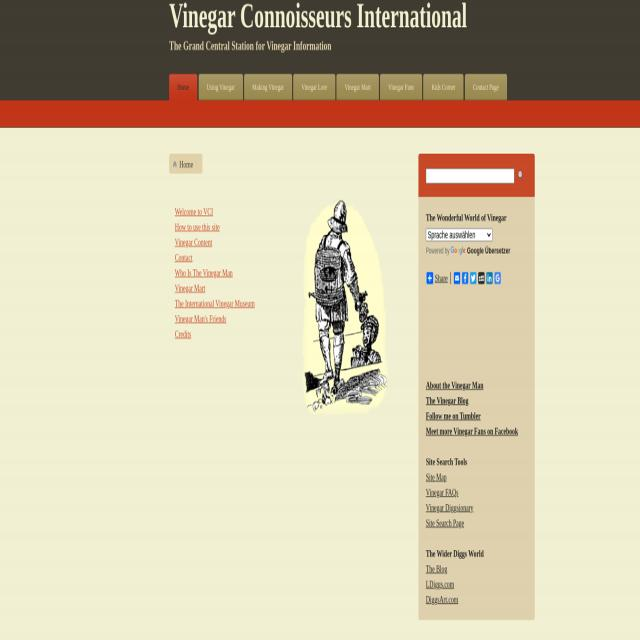button: (300, 196, 390, 415), (244, 72, 292, 98), (199, 72, 243, 98), (294, 72, 336, 98), (337, 72, 379, 98), (380, 72, 422, 98), (465, 72, 507, 98), (424, 72, 464, 98), (169, 72, 197, 98), (451, 244, 467, 254), (461, 272, 468, 284), (478, 272, 485, 284), (486, 272, 493, 284), (470, 273, 477, 285), (427, 272, 433, 284), (495, 272, 501, 284), (454, 273, 460, 285), (518, 169, 524, 180)
field: (426, 168, 514, 183), (426, 228, 493, 241)
